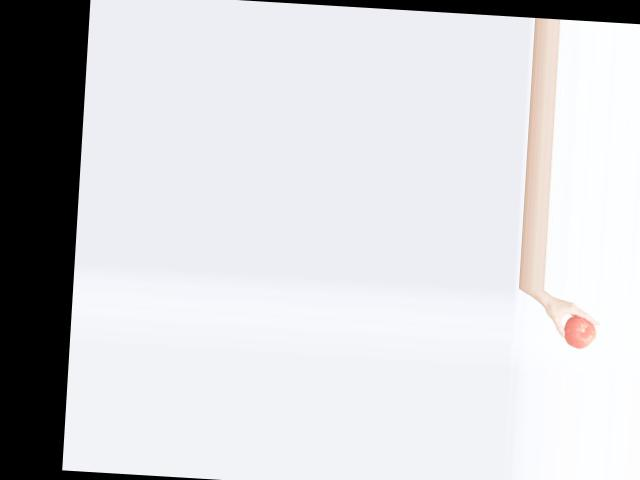tomato: (563, 316, 597, 349)
